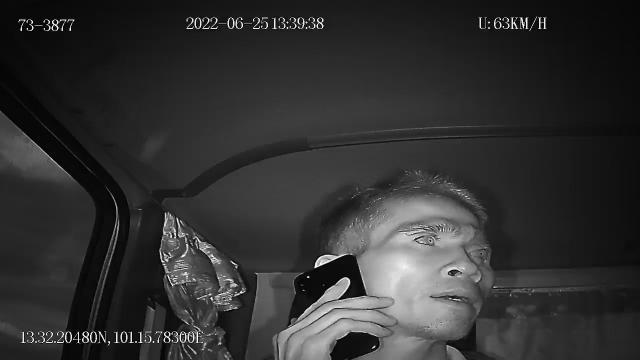PhoneUse: (294, 254, 381, 360)
SafeDriving: (402, 223, 458, 250)
